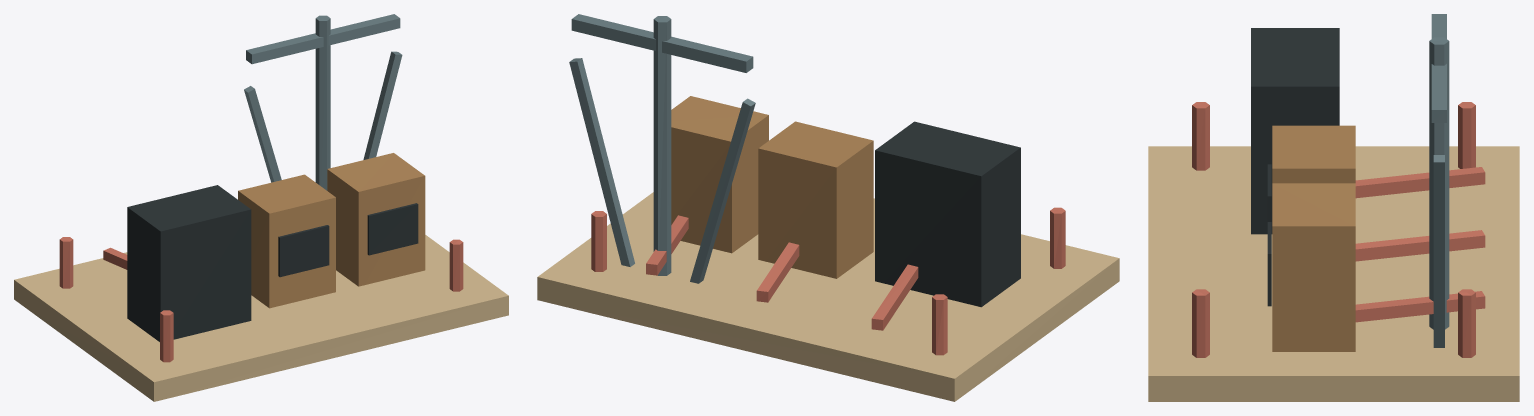
Rendered from Microgrid.glb.
3 views of the same model, side by side, from view 1: azimuth 30°, elevation 25°; view 2: azimuth 150°, elevation 25°; view 3: azimuth 270°, elevation 25° (orthographic). The views are drawn at different scales.
Parts seen in each view (by area): view 1: microgrid-static-microgrid-concrete, microgrid-static-microgrid-control-charcoal, microgrid-static-microgrid-battery-teal, microgrid-static-microgrid-mast-metal, microgrid-static-microgrid-safety-orange; view 2: microgrid-static-microgrid-concrete, microgrid-static-microgrid-battery-teal, microgrid-static-microgrid-control-charcoal, microgrid-static-microgrid-mast-metal, microgrid-static-microgrid-safety-orange; view 3: microgrid-static-microgrid-concrete, microgrid-static-microgrid-battery-teal, microgrid-static-microgrid-control-charcoal, microgrid-static-microgrid-safety-orange, microgrid-static-microgrid-mast-metal.
Boxes of the visible parts, box(x1,y1,x2,y2) form: microgrid-static-microgrid-concrete: box(14, 235, 508, 401); microgrid-static-microgrid-control-charcoal: box(127, 185, 418, 341); microgrid-static-microgrid-battery-teal: box(238, 153, 425, 308); microgrid-static-microgrid-mast-metal: box(244, 14, 402, 190); microgrid-static-microgrid-safety-orange: box(59, 237, 463, 362); microgrid-static-microgrid-concrete: box(537, 192, 1119, 401); microgrid-static-microgrid-battery-teal: box(671, 96, 873, 278); microgrid-static-microgrid-control-charcoal: box(875, 121, 1020, 307); microgrid-static-microgrid-mast-metal: box(569, 14, 755, 283); microgrid-static-microgrid-safety-orange: box(591, 207, 1065, 355); microgrid-static-microgrid-concrete: box(1148, 146, 1519, 401); microgrid-static-microgrid-battery-teal: box(1272, 125, 1355, 351); microgrid-static-microgrid-control-charcoal: box(1251, 28, 1339, 306); microgrid-static-microgrid-safety-orange: box(1192, 102, 1485, 357); microgrid-static-microgrid-mast-metal: box(1429, 14, 1449, 347).
Size of the model in its own units: 4.92 by 3.11 by 3.35.
